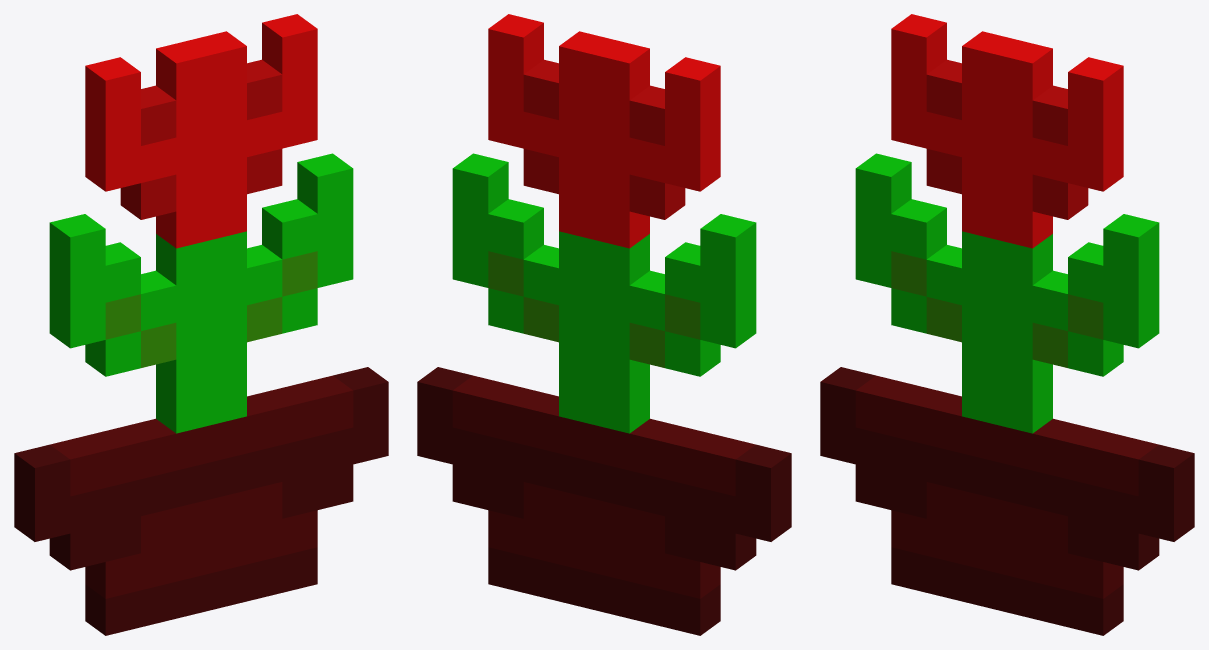
The model's file is flower.obj.
3 views of the same model, side by side, from view 1: azimuth 30°, elevation 25°; view 2: azimuth 150°, elevation 25°; view 3: azimuth 330°, elevation 25° (orthographic).
Bounding box in the file's own units: 1 × 1.5 × 0.1.
Materials: 1 (1 with a texture image).
